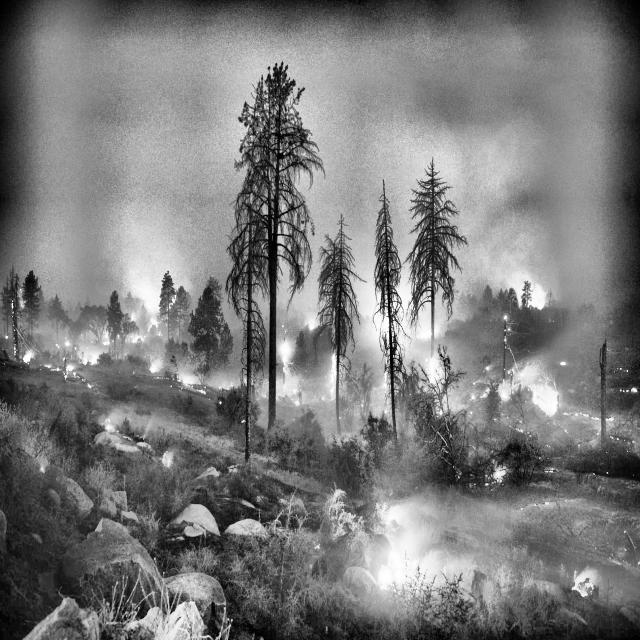fire: (129, 342, 208, 421), (361, 283, 412, 388), (261, 311, 307, 413), (63, 315, 98, 445), (423, 310, 450, 425), (377, 542, 422, 610), (569, 390, 617, 450), (521, 278, 554, 340), (20, 328, 43, 409), (569, 563, 604, 610), (482, 382, 514, 433), (27, 456, 52, 512), (164, 426, 180, 504), (329, 304, 338, 441), (618, 372, 635, 421), (110, 404, 122, 470), (548, 380, 558, 456)
